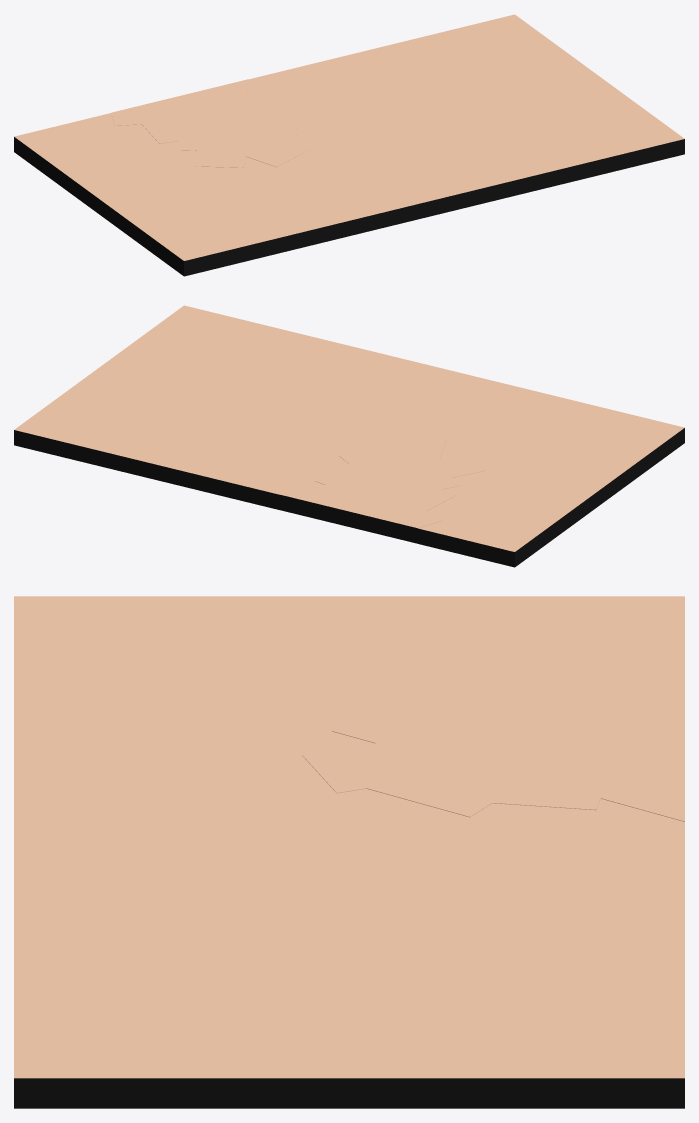
The model's file is Roof Model.FBX.
3 renders of one model, top to bottom at view 1: azimuth 30°, elevation 25°; view 2: azimuth 150°, elevation 25°; view 3: azimuth 270°, elevation 25°, orthographic. The views are drawn at different scales.
Parts seen in each view (by area): view 1: Box002, Box012; view 2: Box002, Box012; view 3: Box002, Box012.
Part boxes in pixels (box(x1,y1,x2,y2)): Box002: box(14, 14, 684, 276); Box012: box(111, 79, 306, 167); Box002: box(14, 305, 684, 567); Box012: box(280, 437, 485, 543); Box002: box(14, 596, 684, 1108); Box012: box(302, 679, 684, 821).
Size of the model in its own units: 170 by 5.07 by 100.
